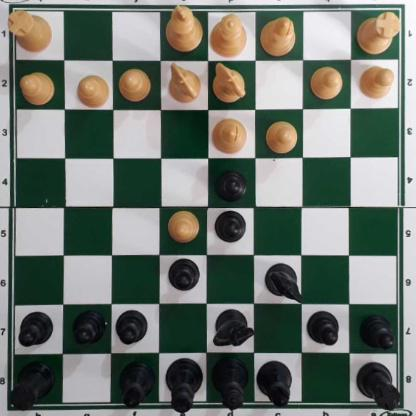black-bishop: (119, 363, 156, 411), (257, 363, 293, 410)
black-king: (165, 357, 204, 415)
black-knight: (265, 265, 304, 304), (215, 311, 252, 350)
black-pawn: (19, 312, 54, 349), (360, 315, 395, 351), (167, 259, 201, 295), (213, 211, 247, 245), (309, 312, 340, 349), (117, 311, 148, 346), (73, 314, 105, 347), (217, 172, 247, 205)
black-queen: (211, 360, 249, 411)
black-rook: (355, 361, 402, 413), (13, 363, 56, 410)
white-bishop: (262, 16, 297, 58), (212, 120, 247, 157)
white-king: (167, 6, 203, 57)
white-knight: (168, 65, 202, 104), (212, 64, 246, 102)
white-pawn: (358, 67, 397, 101), (19, 72, 55, 106), (310, 68, 344, 101), (77, 75, 110, 109), (266, 122, 299, 155), (167, 213, 201, 245), (119, 70, 152, 102)
white-queen: (212, 11, 247, 61)
white-rook: (7, 11, 53, 54), (357, 13, 402, 56)
